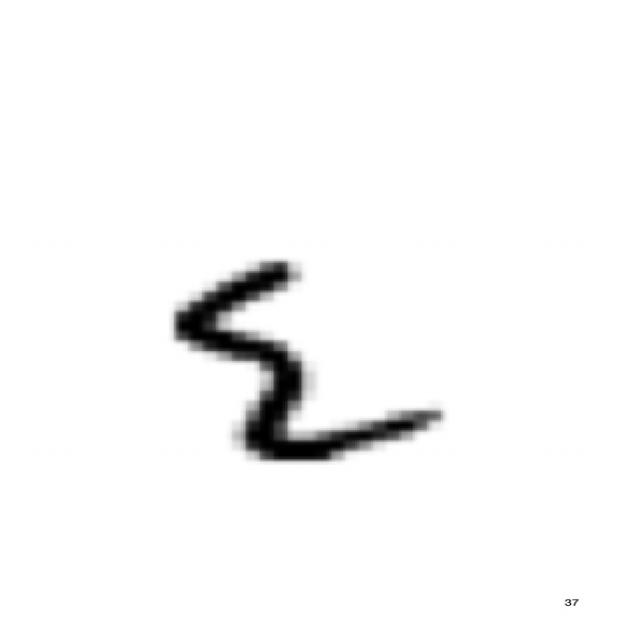4 -four-: (153, 251, 458, 473)
